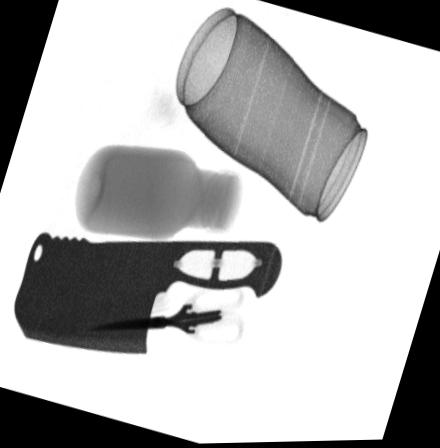Knife: (13, 231, 281, 354)
Scissors: (87, 279, 244, 347)
